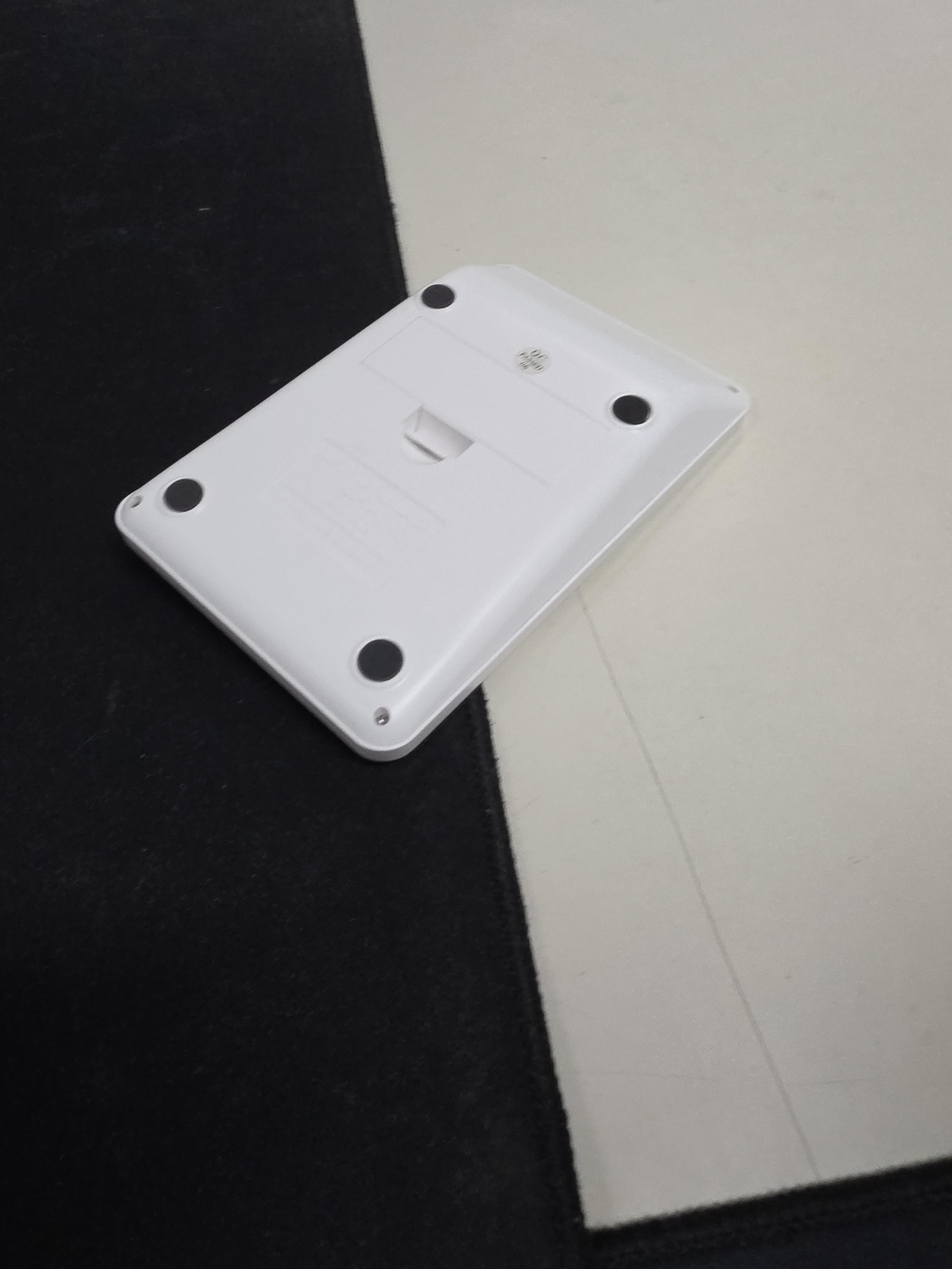calculator: (114, 263, 751, 763)
